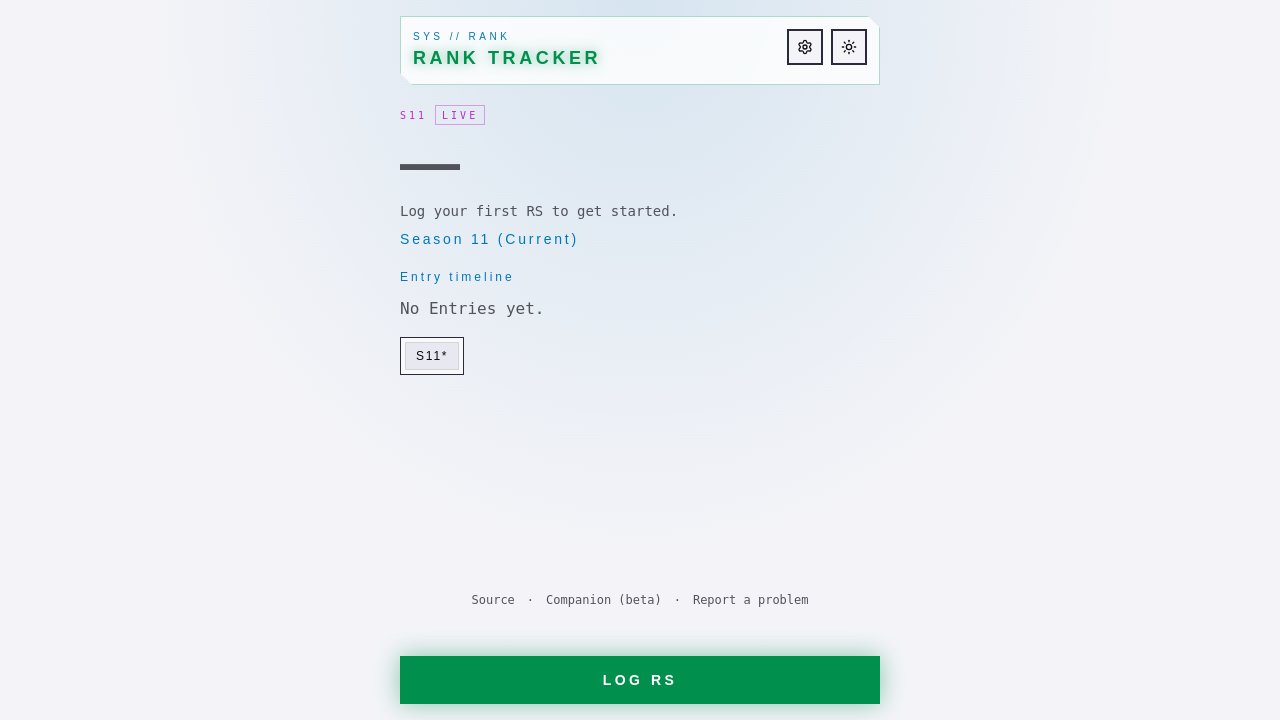
Test: Send magic link shows check-email status without signing in
Click the button named "Data".
click(805, 47)  # box top-left (787, 29), bottom-right (823, 65)
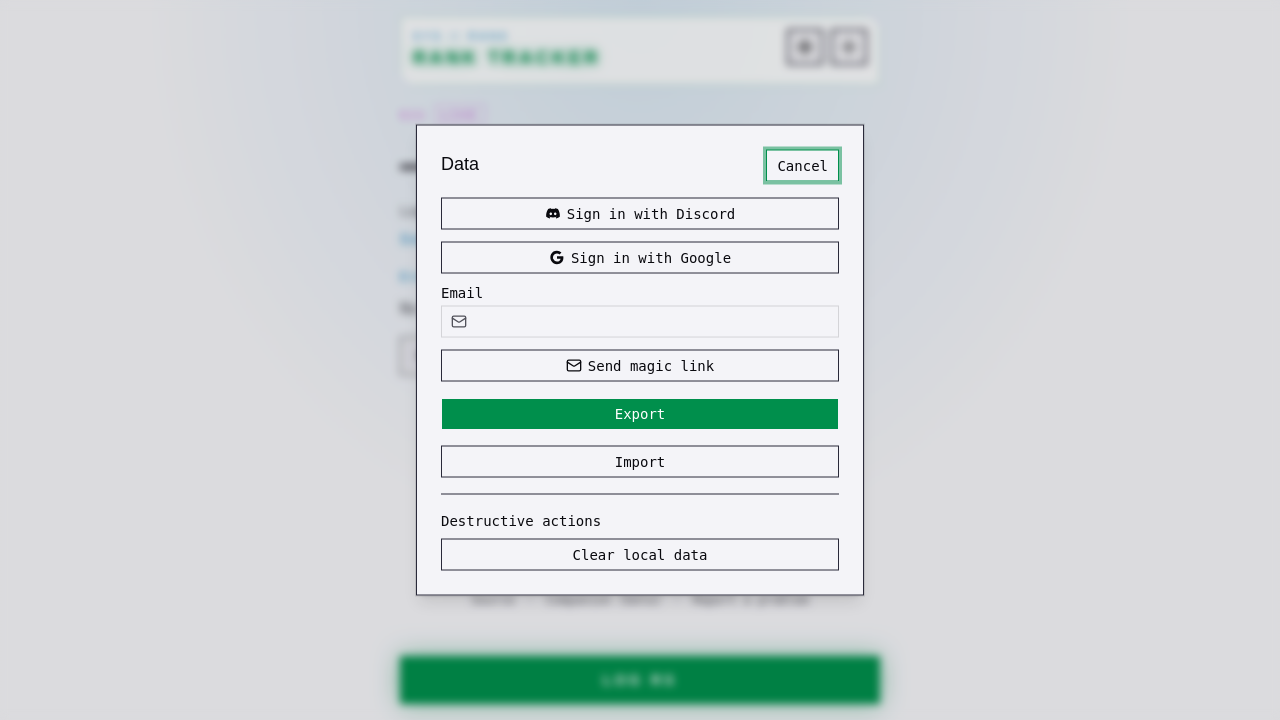
Type "player@example.com" into the field labelled "Email".
click(640, 322); type("player@example.com")  # box top-left (441, 306), bottom-right (839, 338)
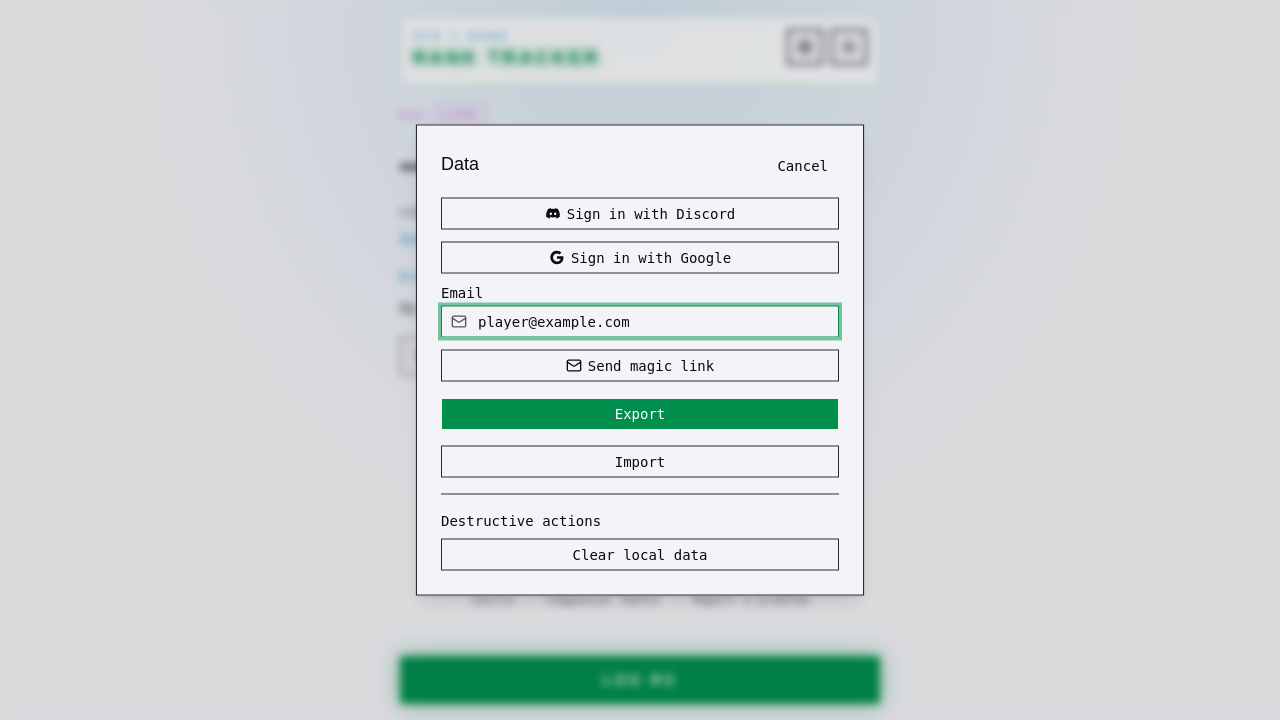
Click the button "Send magic link".
click(640, 366)  # box top-left (441, 350), bottom-right (839, 382)
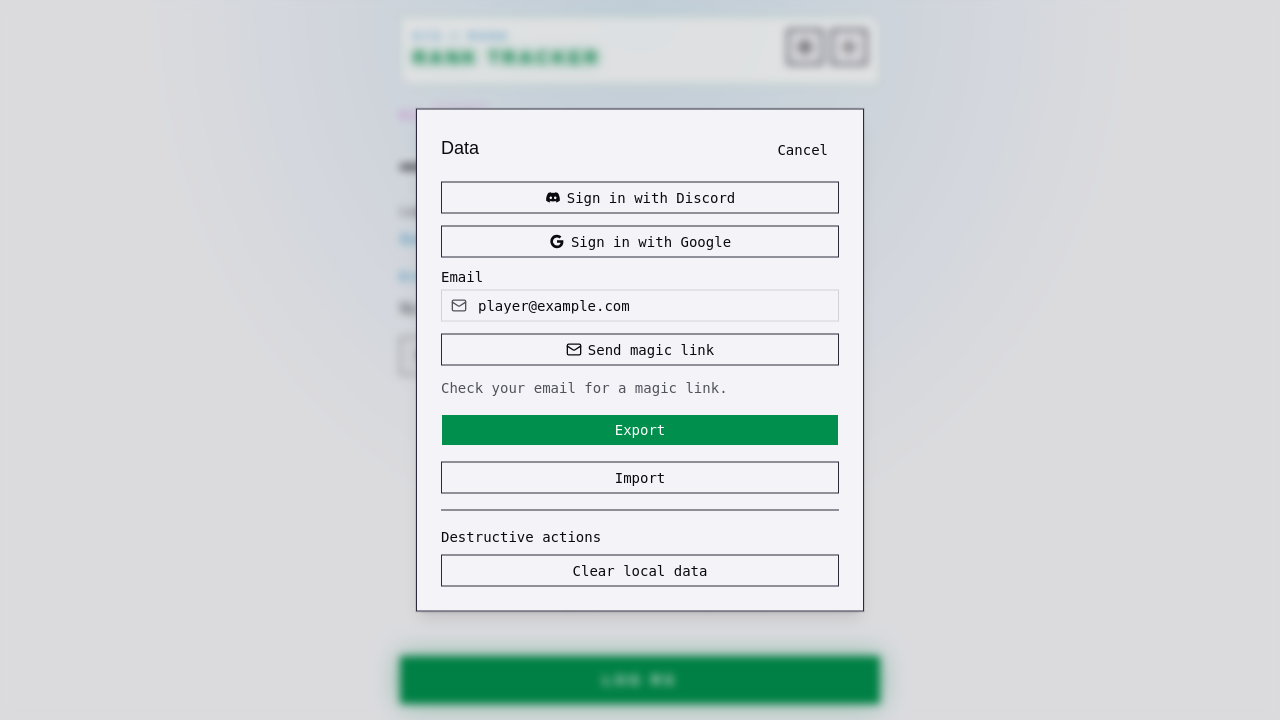
Expected: the button "Sign in with Discord" is shown, top-left (441, 182), bottom-right (839, 214)
Expected: the message reads "Check your email for a magic link.", top-left (441, 380), bottom-right (728, 396)
